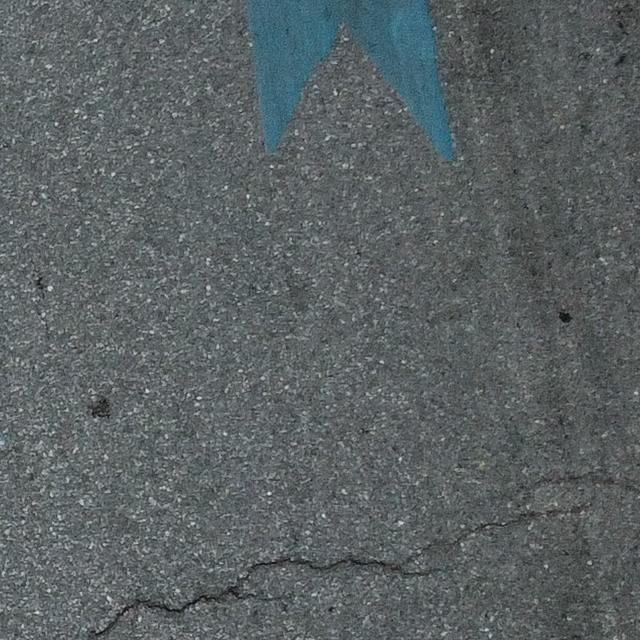TransverseCrack: (89, 501, 589, 638)
